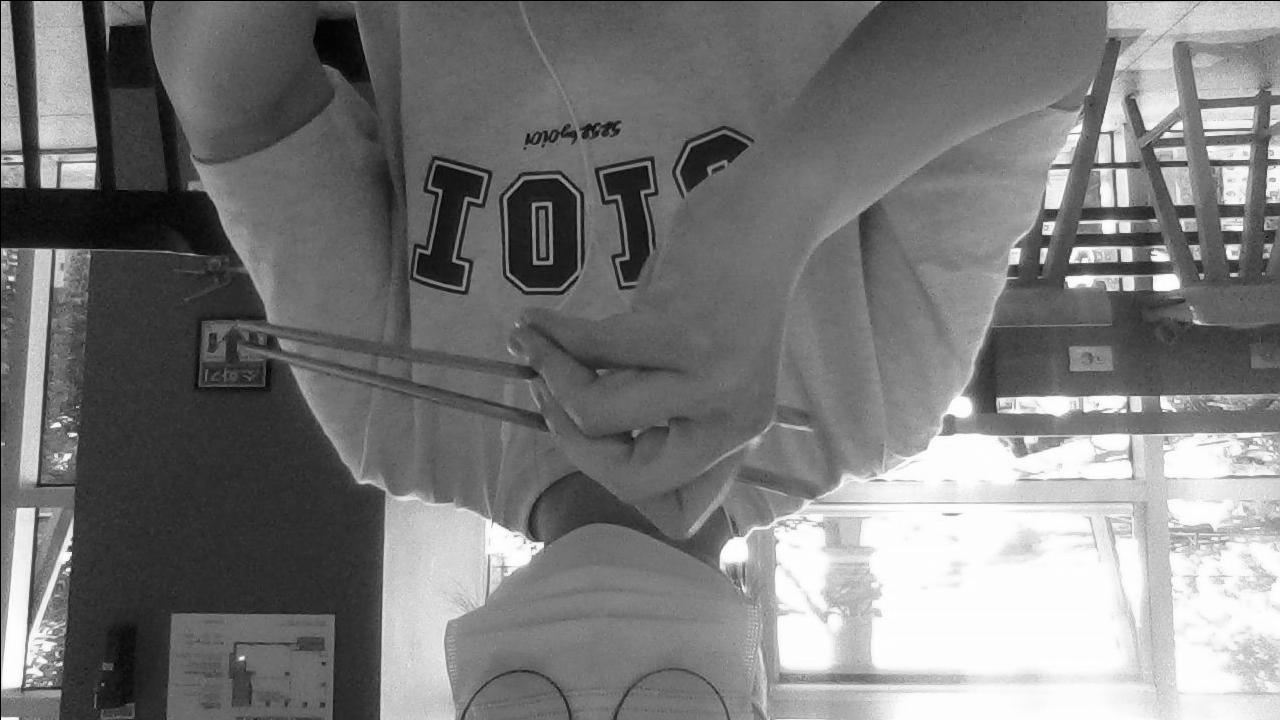chopstick: (229, 339, 821, 501), (231, 314, 820, 430)
hand: (504, 173, 803, 539)
